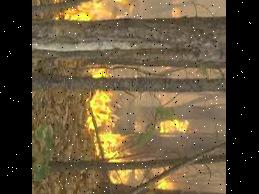fire: (72, 55, 194, 194), (42, 0, 140, 19)
